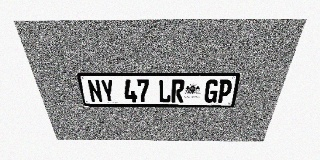4: (123, 79, 137, 102)
7: (136, 79, 150, 103)
G: (203, 80, 219, 103)
L: (158, 80, 171, 103)
N: (86, 79, 103, 102)
P: (216, 80, 233, 103)
R: (171, 80, 185, 103)
Y: (100, 79, 116, 102)
